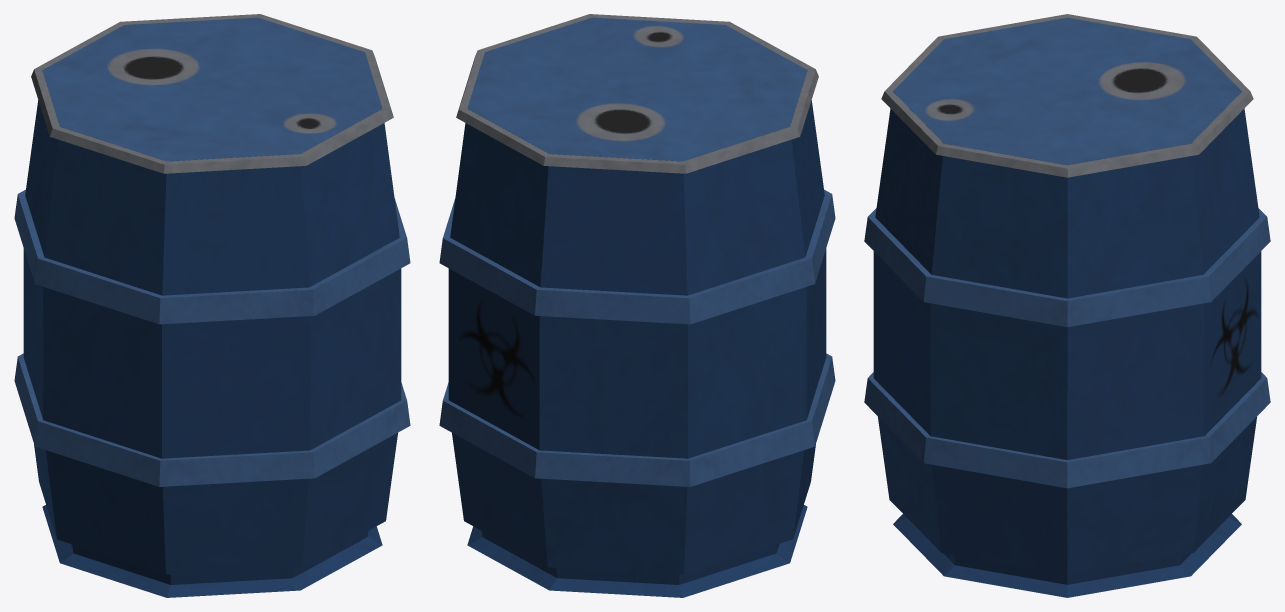
File: barril.fbx
3 views of the same model, side by side, from view 1: azimuth 30°, elevation 25°; view 2: azimuth 150°, elevation 25°; view 3: azimuth 270°, elevation 25° (orthographic).
Parts seen in each view (by area): view 1: Cube; view 2: Cube; view 3: Cube.
Part boxes in pixels (bbox=[...]): Cube: bbox=[14, 14, 410, 597]; Cube: bbox=[439, 14, 835, 597]; Cube: bbox=[864, 14, 1270, 597].
Size of the model in its own units: 233 by 273 by 233.
